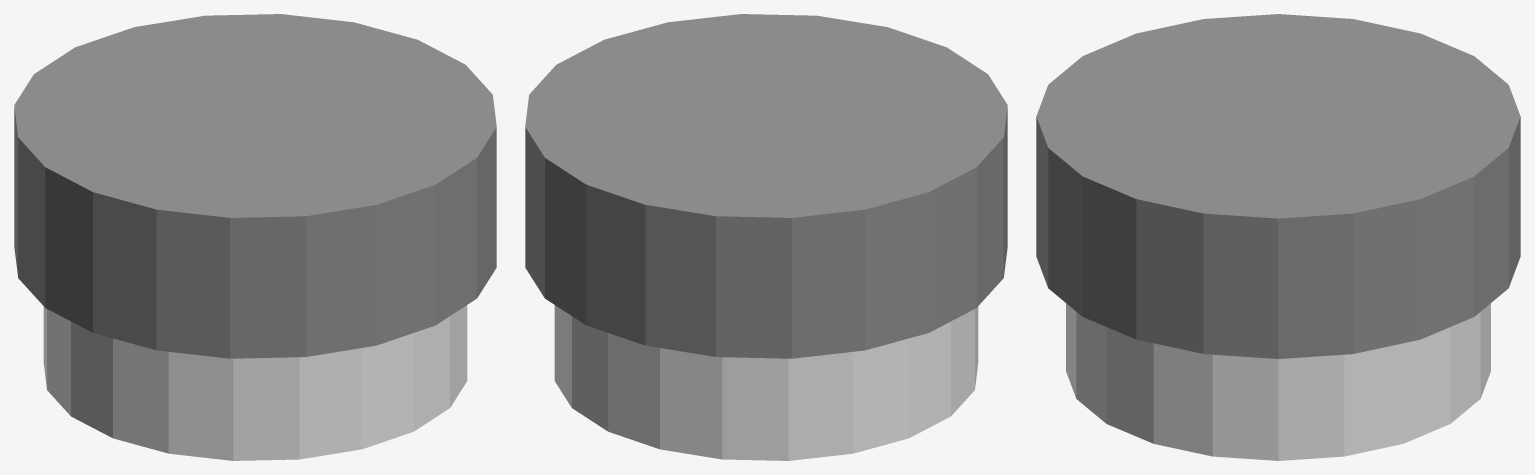
The model's file is Table_2.fbx.
The picture shows the model from 3 angles, left to right: view 1: azimuth 30°, elevation 25°; view 2: azimuth 150°, elevation 25°; view 3: azimuth 270°, elevation 25°; orthographic projection.
Parts seen in each view (by area): view 1: Table_2; view 2: Table_2; view 3: Table_2.
Part boxes in pixels (box(x1,y1,x2,y2)): Table_2: box(14, 14, 496, 460); Table_2: box(525, 14, 1007, 460); Table_2: box(1036, 14, 1520, 460).
Size of the model in its own units: 128 by 128 by 74.33.
